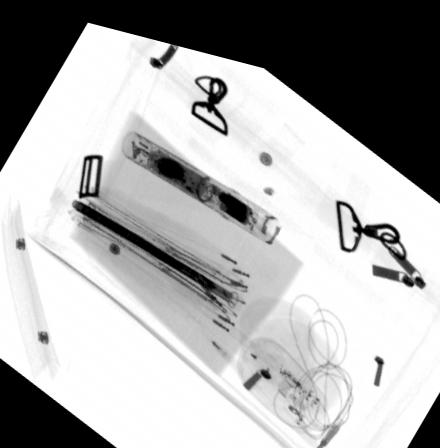Baton: (118, 120, 285, 232)
